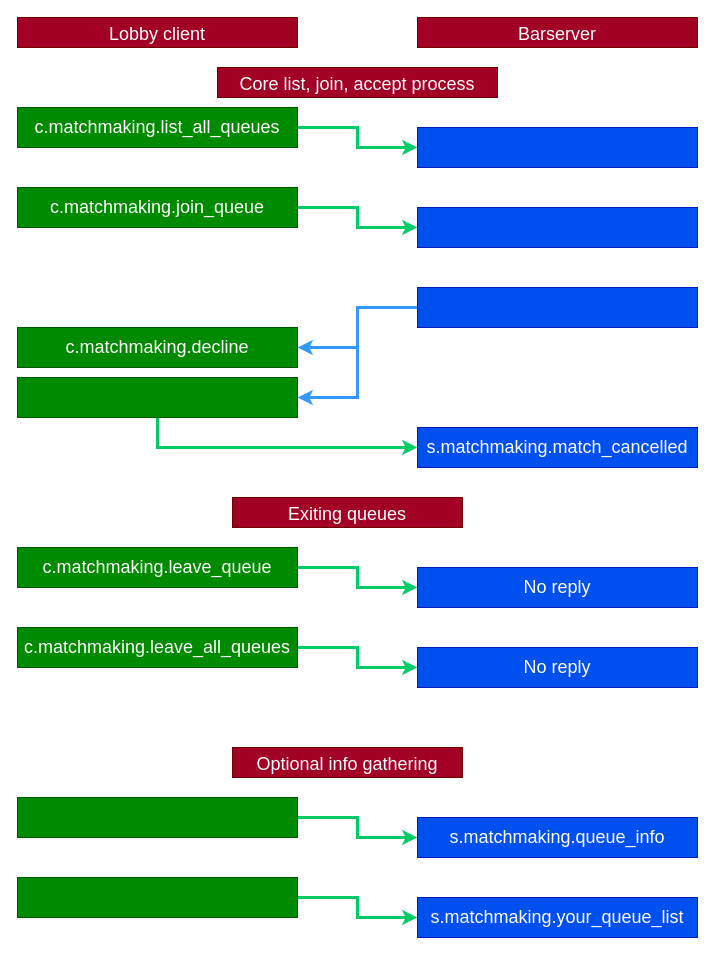
Image size: 715x955. Some labels were removed from this diagram. The box of each missing label's shape, as (x1, y1, x2, y2) in pixels:
c.matchmaking.get_queue_info: (16, 796, 298, 838)
c.matchmaking.list_my_queues: (16, 876, 298, 918)
c.matchmaking.ready: (16, 376, 298, 418)
OK: (416, 206, 698, 248)
s.matchmaking.full_queue_list: (416, 126, 698, 168)
s.matchmaking.ready_check: (416, 286, 698, 328)
